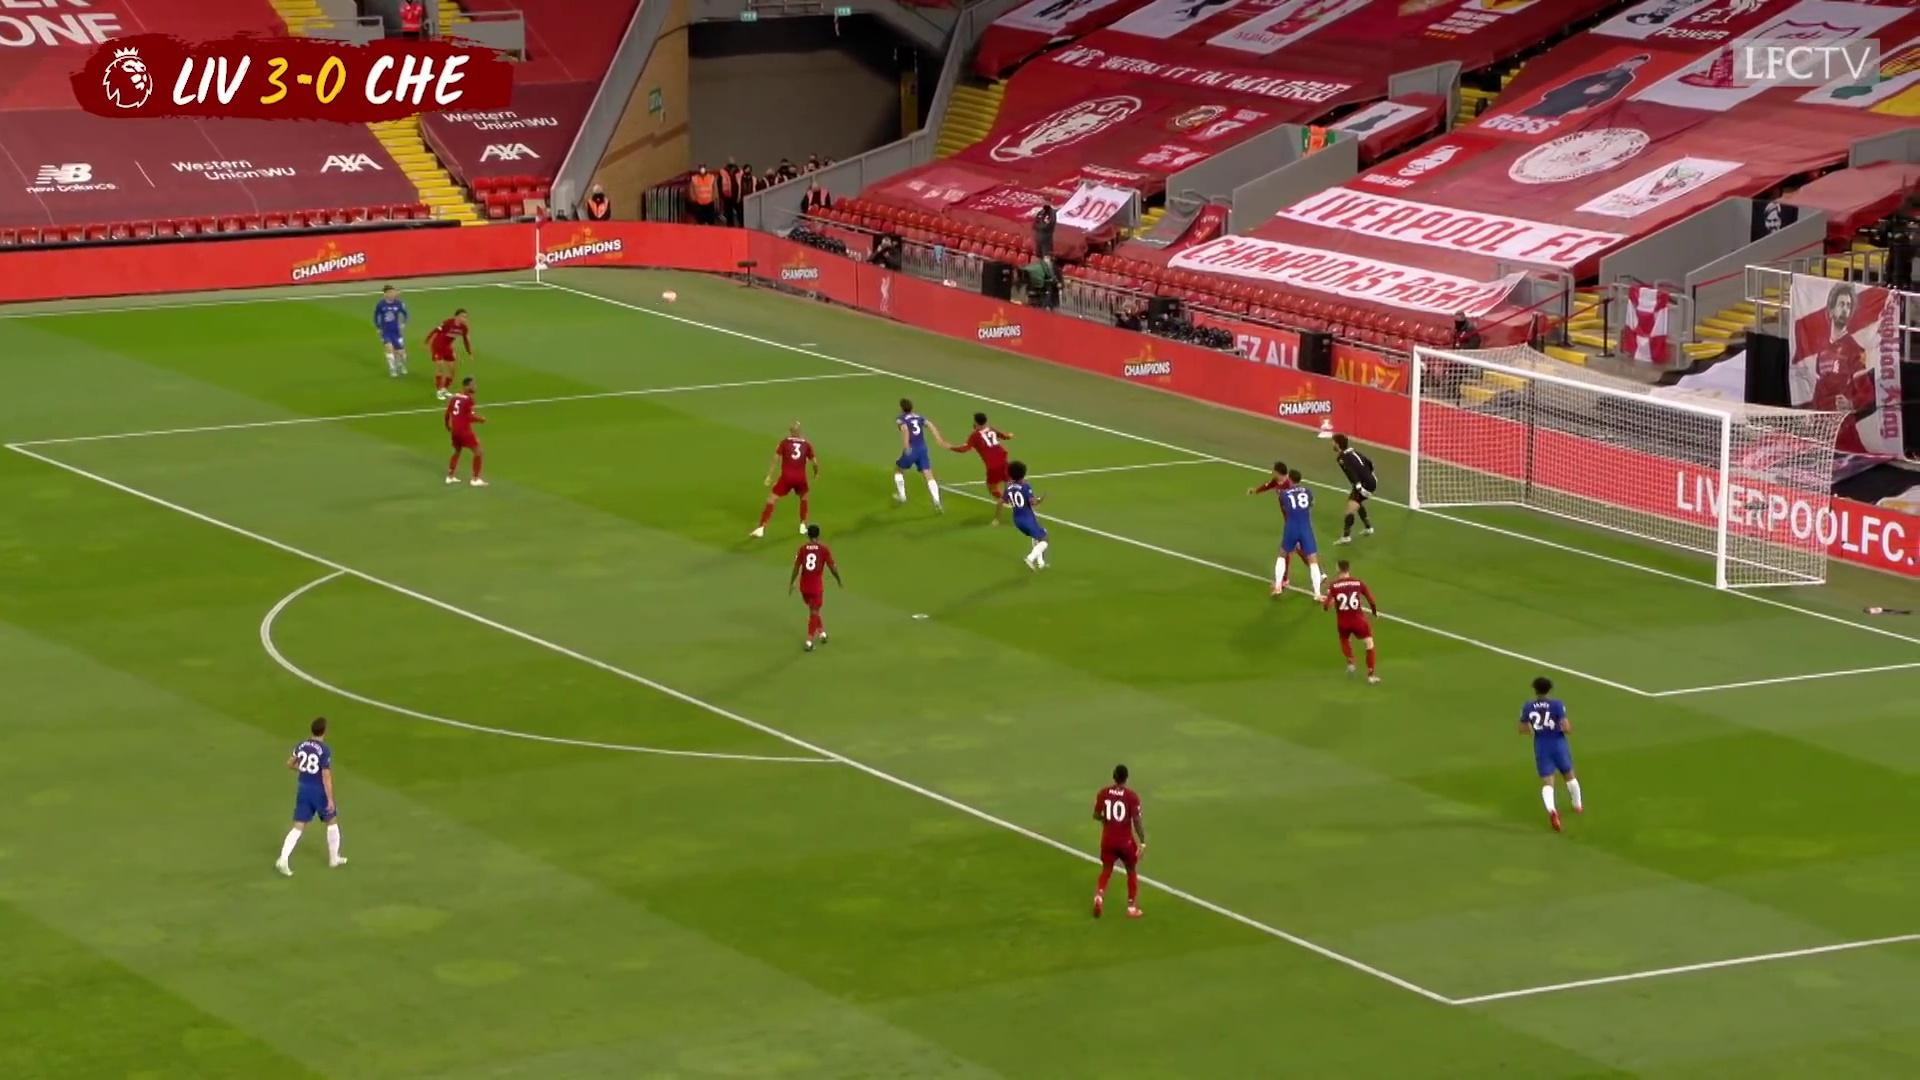ball: (660, 288, 679, 305)
